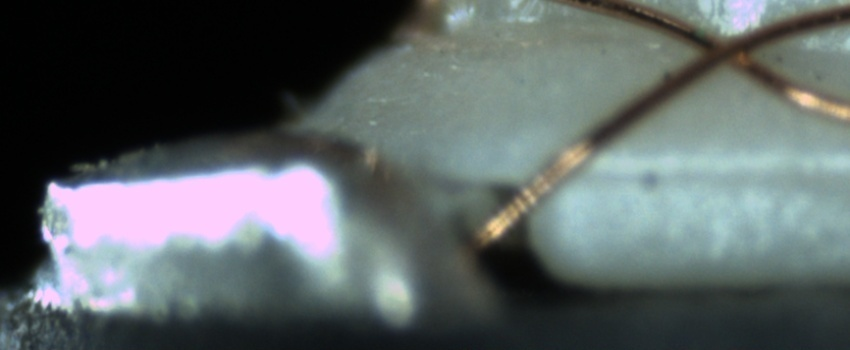CL: (689, 17, 774, 80)
DL: (581, 140, 849, 204)
